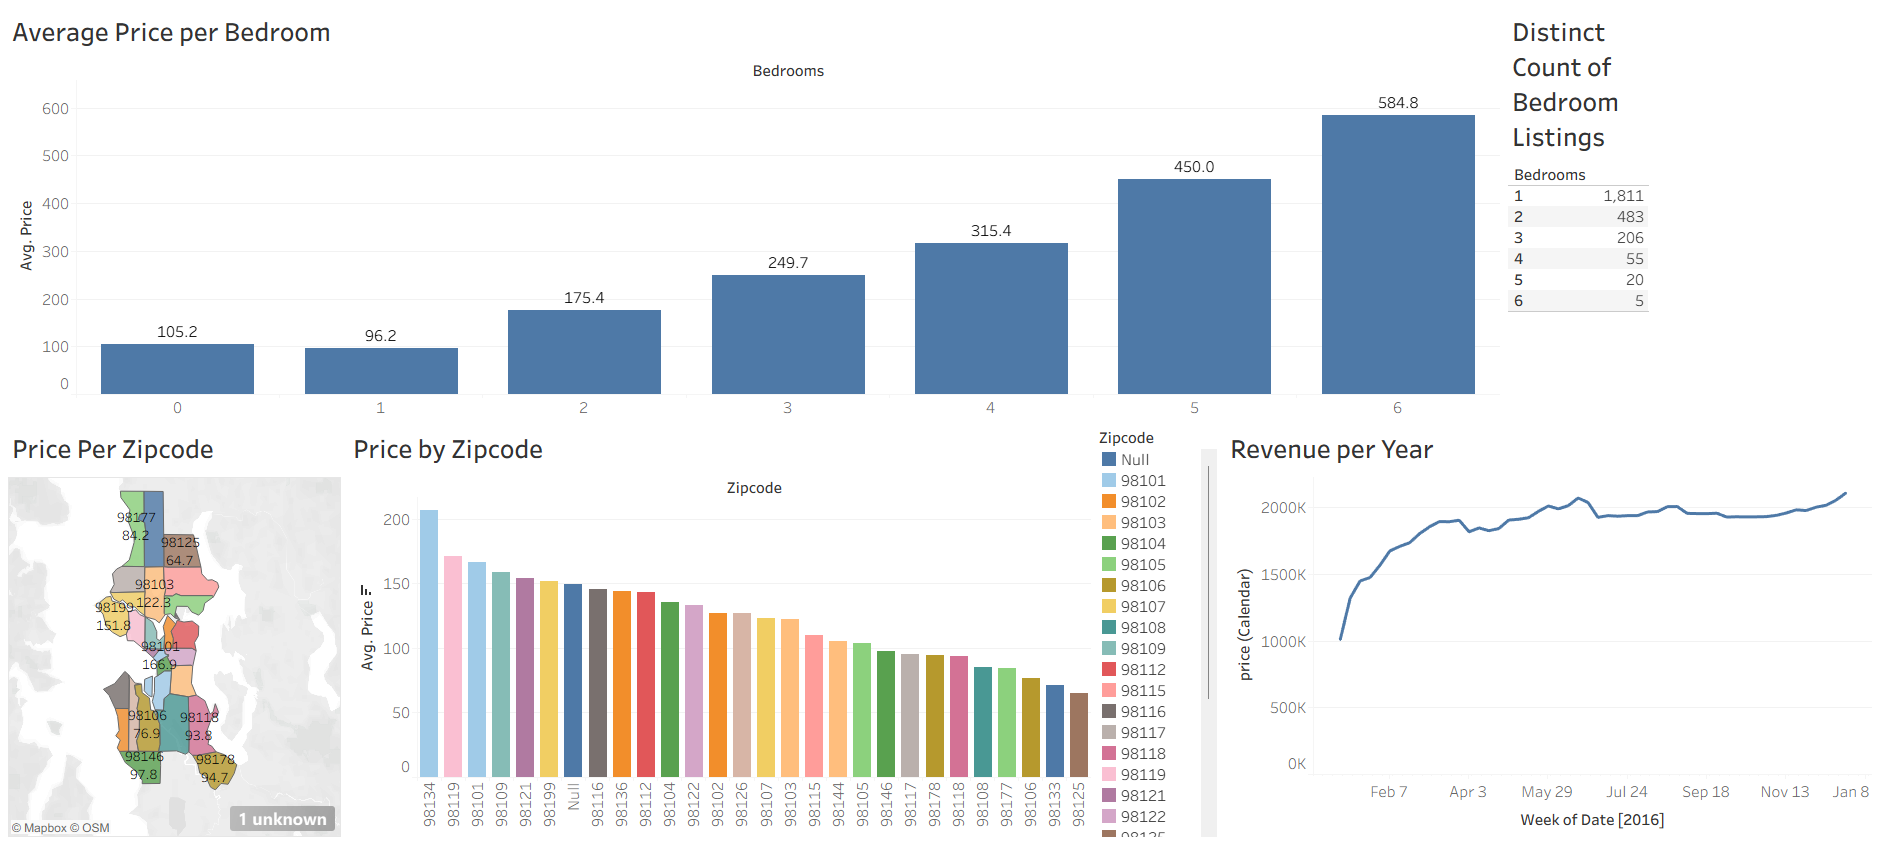

The dashboard page shown, as its layout file describes it:
{"tool":"tableau","page":{"name":"Dashboard 1","canvas":[1000,1000],"units":"permille","ordinal":0},"visuals":[{"type":"worksheet","title":"Sheet 4","mark":"Automatic","rows":["price"],"cols":["bedrooms"],"box":[4.8,9.4,793.6,490.6]},{"type":"worksheet","title":"Sheet 5","mark":"Automatic","rows":["bedrooms"],"box":[798.4,9.4,196.8,490.6]},{"type":"worksheet","title":"Sheet 2","mark":"Multipolygon","box":[4.8,500,180.5,490.6]},{"type":"worksheet","title":"Sheet 1","mark":"Automatic","rows":["price"],"cols":["zipcode"],"box":[185.3,500,396.5,490.6]},{"type":"legend","title":"Sheet 1","param":"[federated.1a1sqfh1pkhpq71dodyr00plar5a].[none:zipcode:ok]","box":[581.9,500,67.5,490.6]},{"type":"worksheet","title":"Sheet 3","mark":"Automatic","rows":["price (Calendar)"],"cols":["date"],"box":[649.4,500,345.8,490.6]}]}

Visuals, with their boxes on the dashboard's canvas, which has no fixed pixel size, in thousandths of its width and height (x1, y1, x2, y2). These are canvas units, not pixel positions in the 1884x847 screenshot, which may show the page scaled, cropped or inside an application window:
"Sheet 4" worksheet: l=5, t=9, r=798, b=500
"Sheet 5" worksheet: l=798, t=9, r=995, b=500
"Sheet 2" worksheet (Multipolygon marks): l=5, t=500, r=185, b=991
"Sheet 1" worksheet: l=185, t=500, r=582, b=991
"Sheet 1" legend: l=582, t=500, r=649, b=991
"Sheet 3" worksheet: l=649, t=500, r=995, b=991
